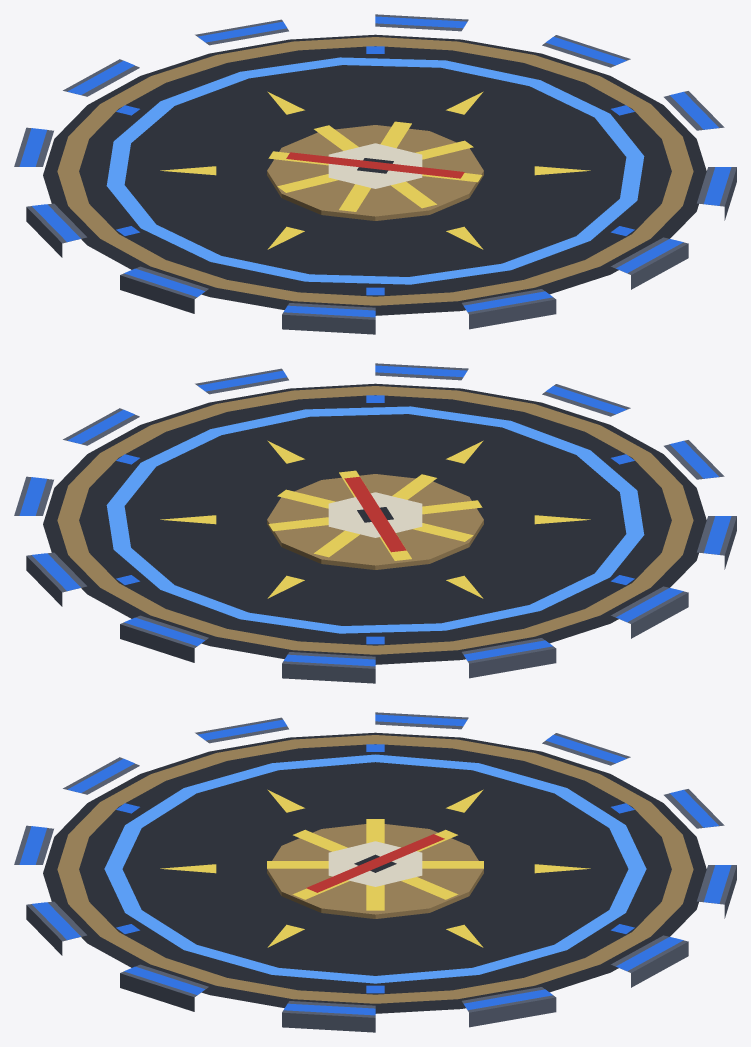
File: blinder_super_rare_area.glb
3 renders of one model, top to bottom at view 1: azimuth 30°, elevation 25°; view 2: azimuth 150°, elevation 25°; view 3: azimuth 270°, elevation 25°, orthographic.
Visible parts, largest first — view 1: blinder_super_rare_area; view 2: blinder_super_rare_area; view 3: blinder_super_rare_area.
Part boxes in pixels (x1,y1,x2,y2): blinder_super_rare_area: (14, 14, 736, 334); blinder_super_rare_area: (14, 363, 736, 683); blinder_super_rare_area: (14, 712, 736, 1032).
Bounding box in the file's own units: 2 × 0.05 × 2.
Materials: 2 (2 with a texture image).
